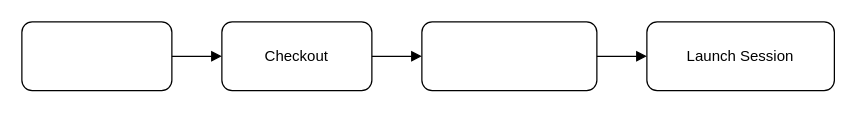
Some shapes in this 856 by 113 pixel diagram are drawn without their labels. The box of each missing label's shape, as (x1, y1, x2, y2) in pixels:
Approval Tier: (421, 21, 597, 91)
Requester: (21, 21, 172, 91)
